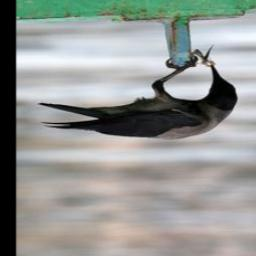Crow: (36, 57, 238, 142)
